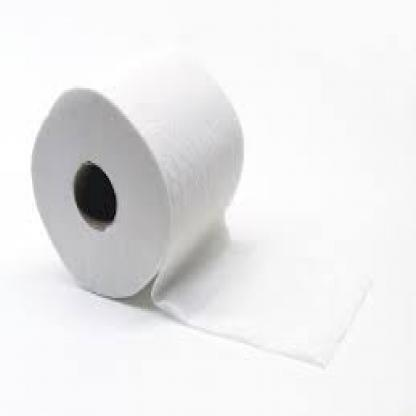tissue: (35, 55, 266, 348)
